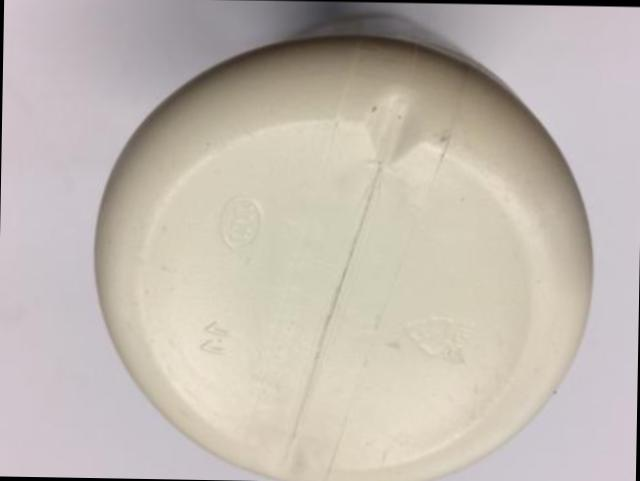plastic: (94, 20, 590, 481)
